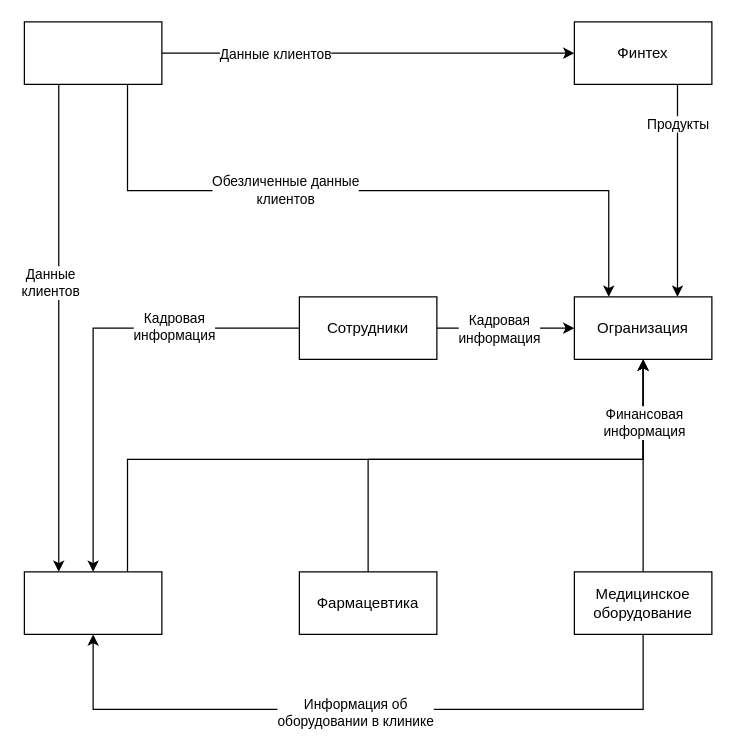
Image size: 734x750. Some labels were removed from this diagram. The shapes that lost their labels are listed below. From the top down, each one's centre as x and y in pixels, then its label:
point (92, 52): Клиенты
point (92, 602): Клиника
